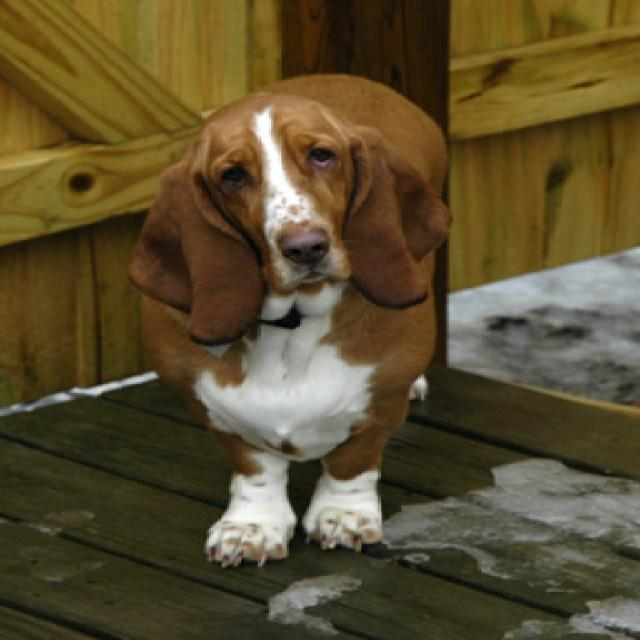dog-basset_hound: (120, 64, 460, 574)
